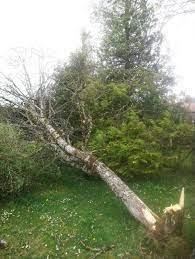Downstairs: (1, 51, 185, 248)
